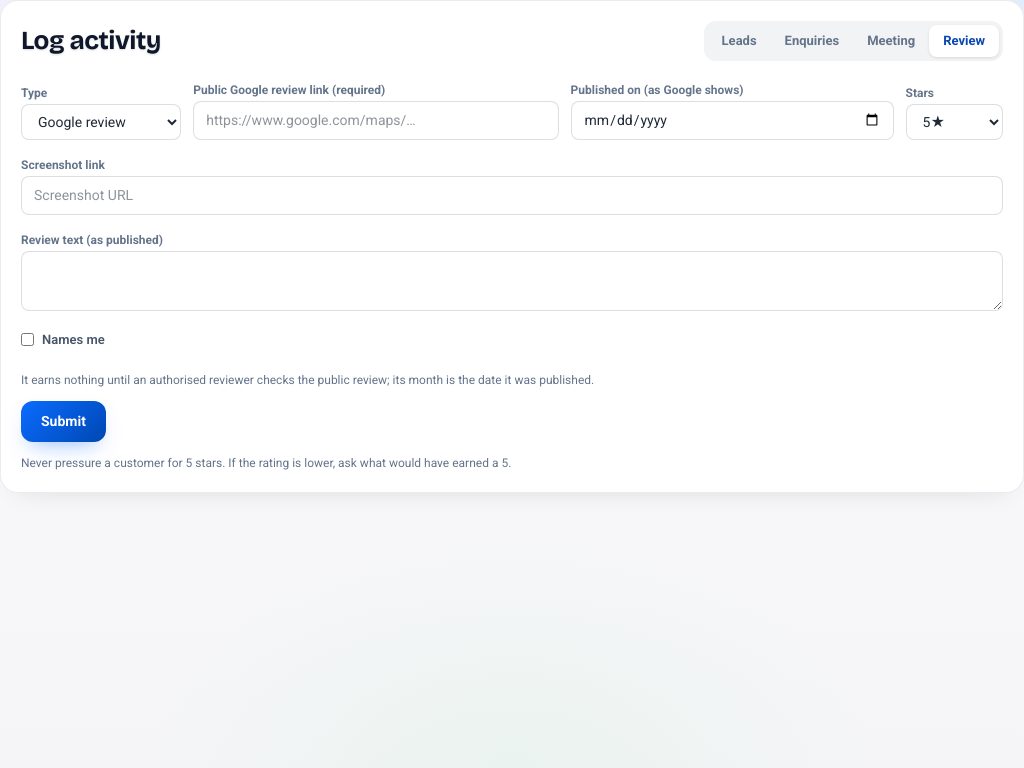
Test: Log activity › email and letterhead keep their own fields (words, the link to the evidence) and now also send the email's or letter's own date and text (F.2, F.3)
Earlier steps of the test are not shown.
Select "Email" in the dropdown labelled "Type" at (101, 122), box [21,104,181,140]
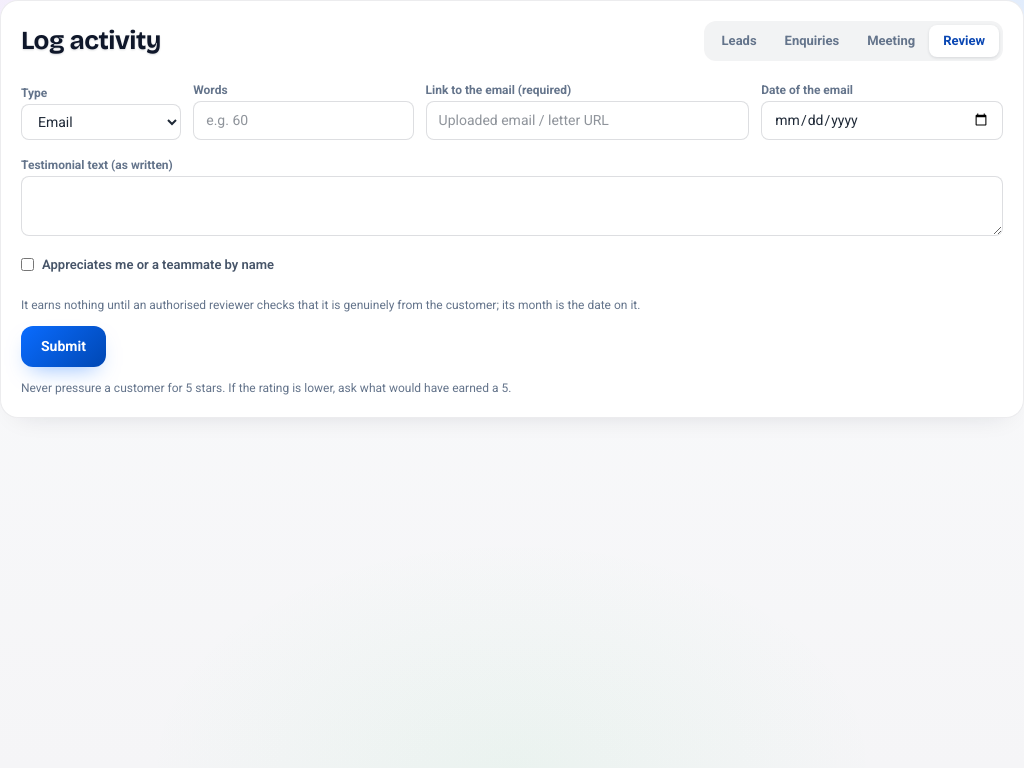
Type "70" into the number field with placeholder "e.g. 60" at (303, 120), box [193,100,414,140]
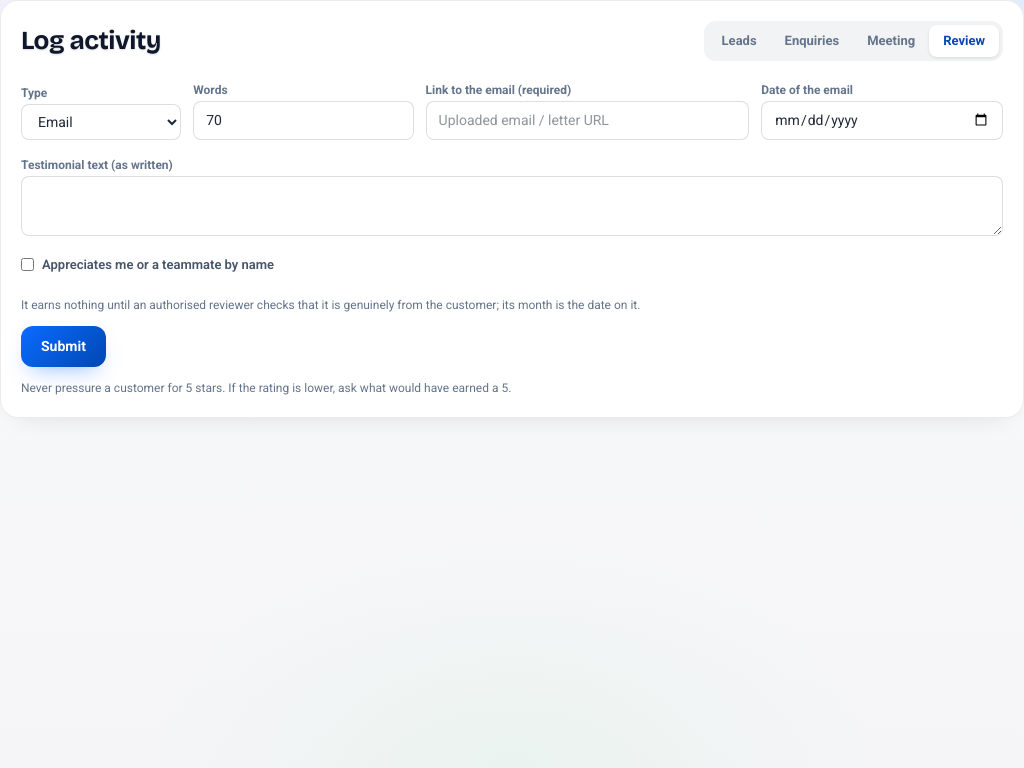
expect the text "Link to the email (required)" is shown: met, box [426,82,571,96]
Type "https://files.example/mail.eml" into the field named "Evidence link" at (587, 120), box [426,100,749,140]
Type "2026-11-03" into the date field named "Dated" at (882, 120), box [761,100,1003,140]
Type "Thanks to Asha" into the text box labelled "Testimonial text" at (512, 206), box [21,176,1003,236]
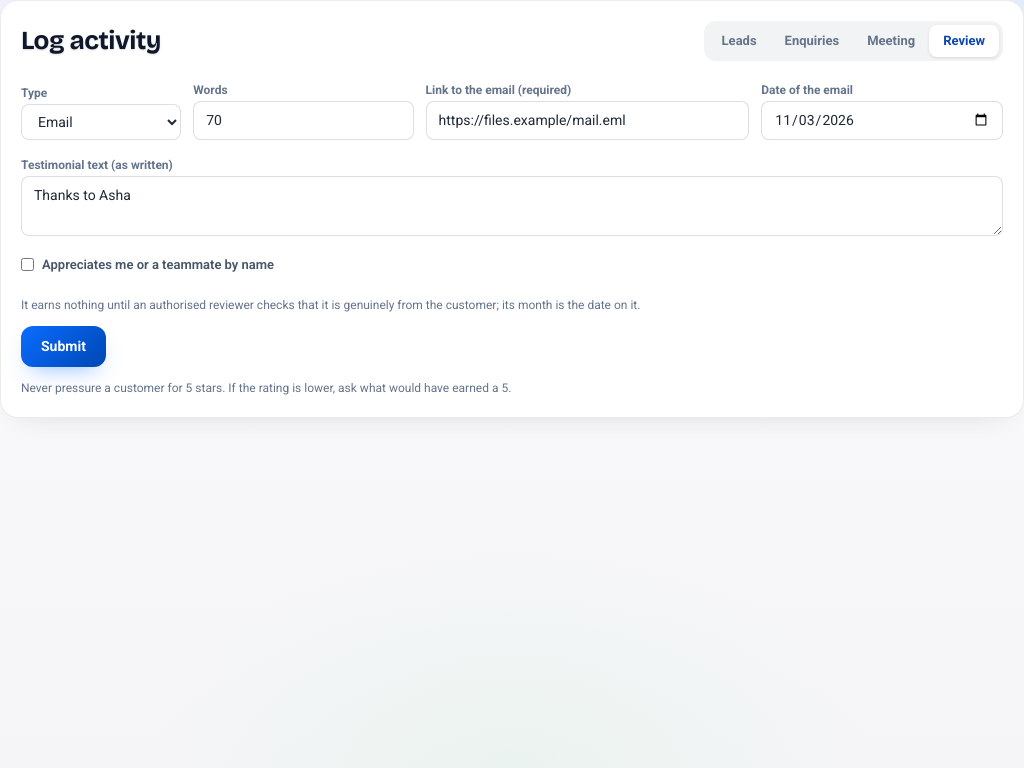
Click the checkbox labelled "Appreciates me or a teammate by name" at (28, 264), box [21,258,34,271]
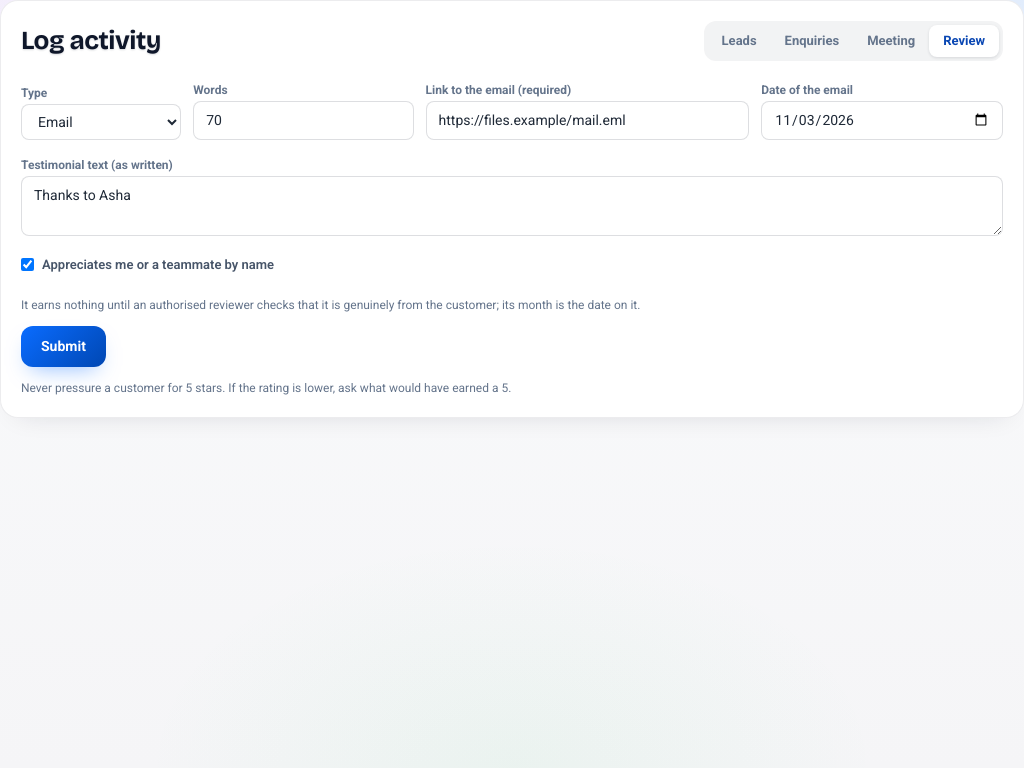
Click the button "Submit" at (63, 346), box [21,326,106,367]
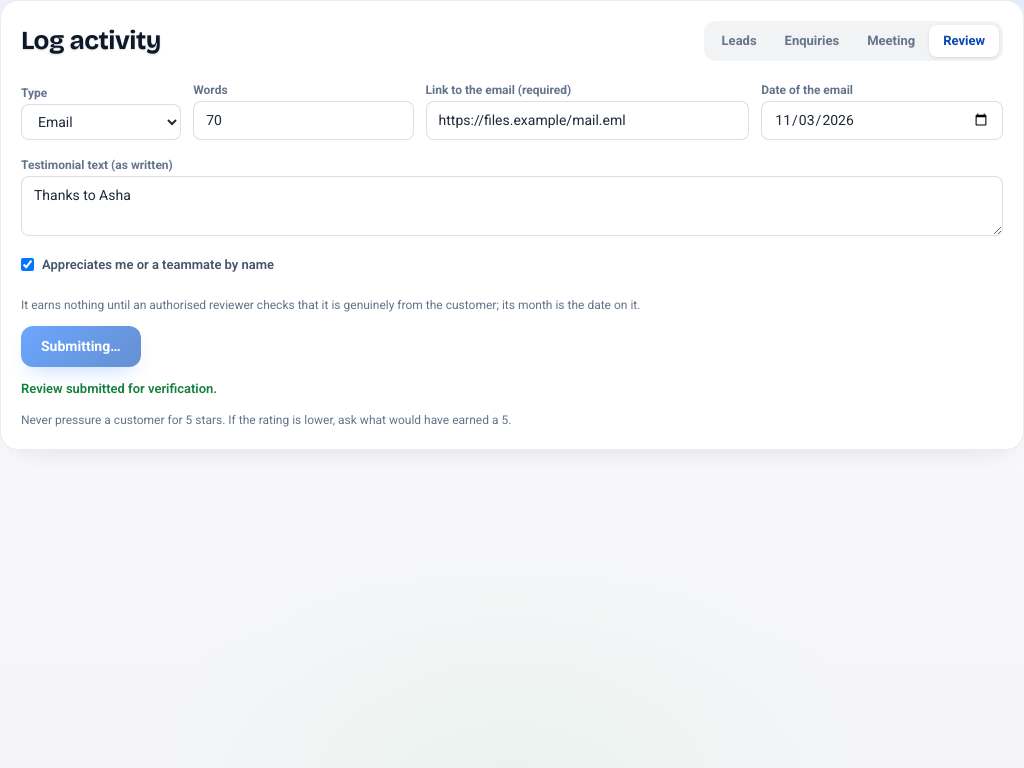
Select "Letterhead" in the dropdown labelled "Type" at (101, 122), box [21,104,181,140]
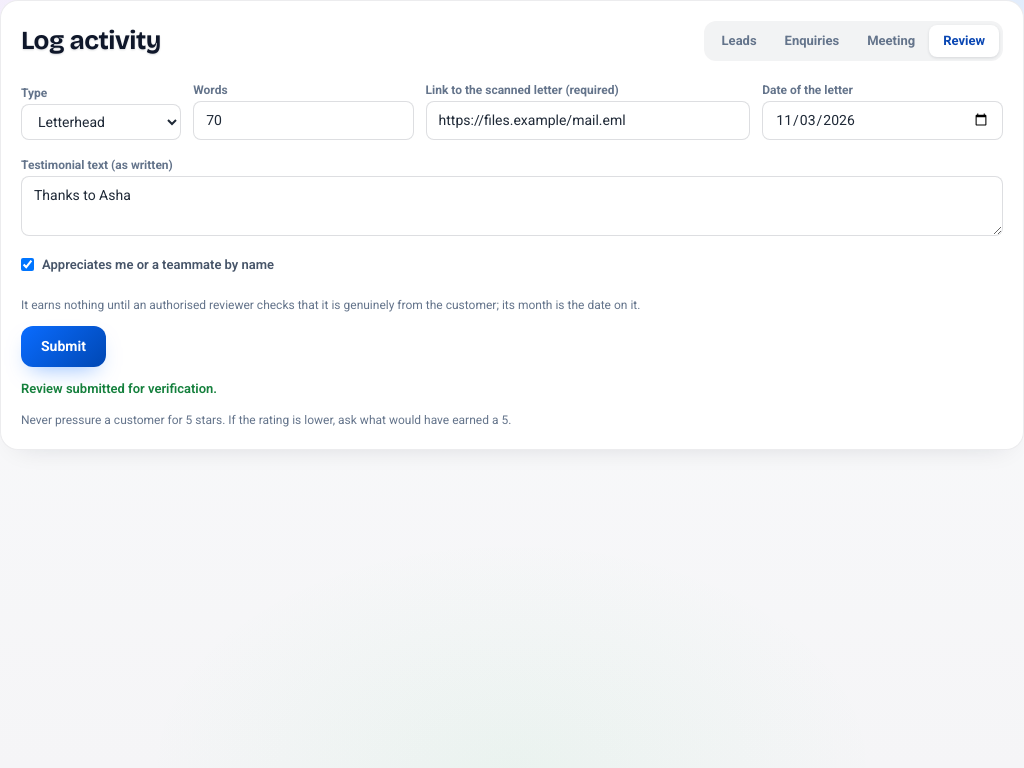
expect the text "Link to the scanned letter (required)" is shown: met, box [426,82,619,96]
expect the text "Date of the letter" is shown: met, box [762,82,853,96]
